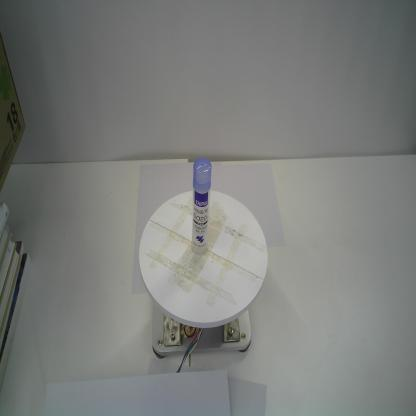Stationery: (192, 157, 212, 255)
